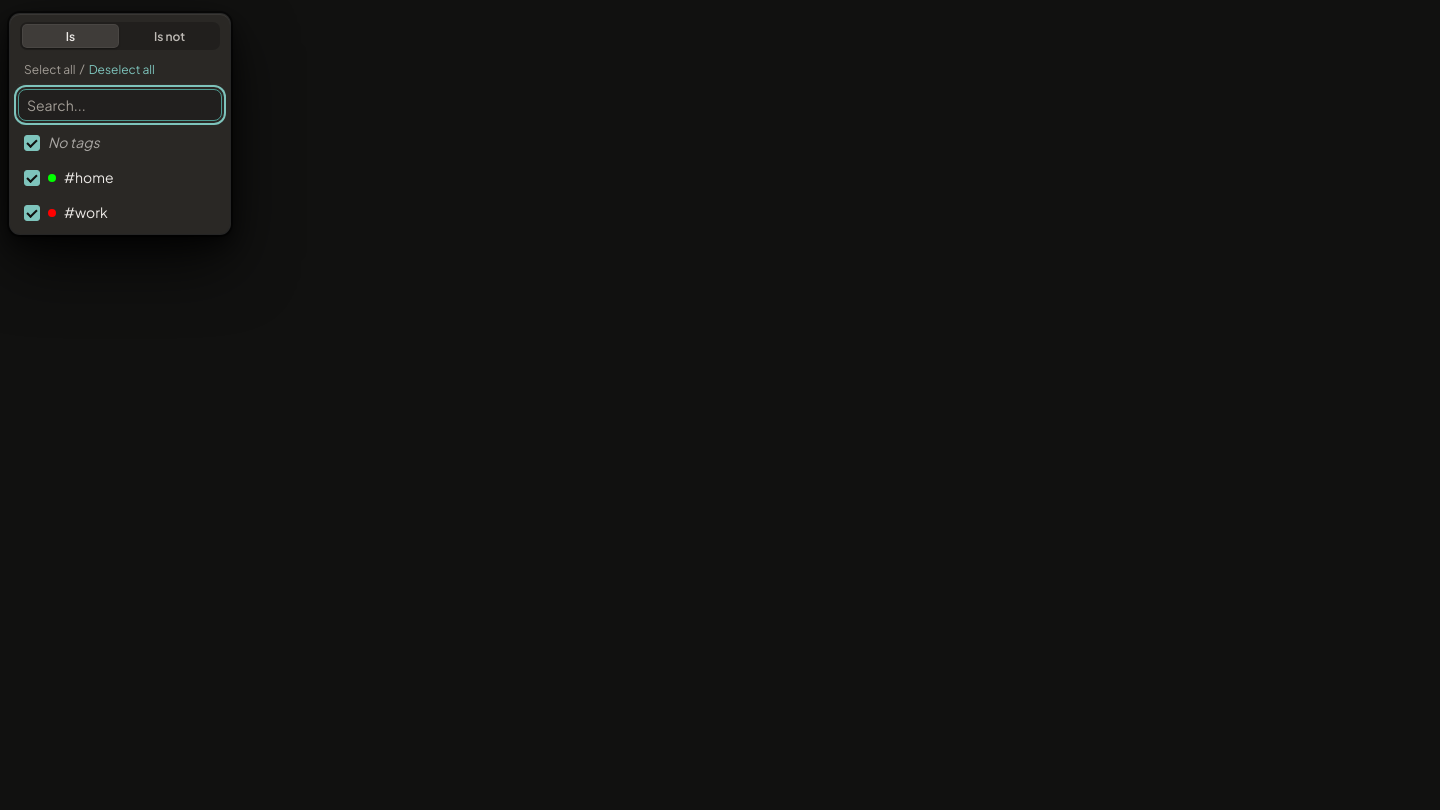
Test: the filter pickers’ clear × › a list’s Tags picker: the same ×, the picker stays open
Type "wo" into the field with placeholder "Search...". click: [120, 105]
box: [18, 89, 222, 121]
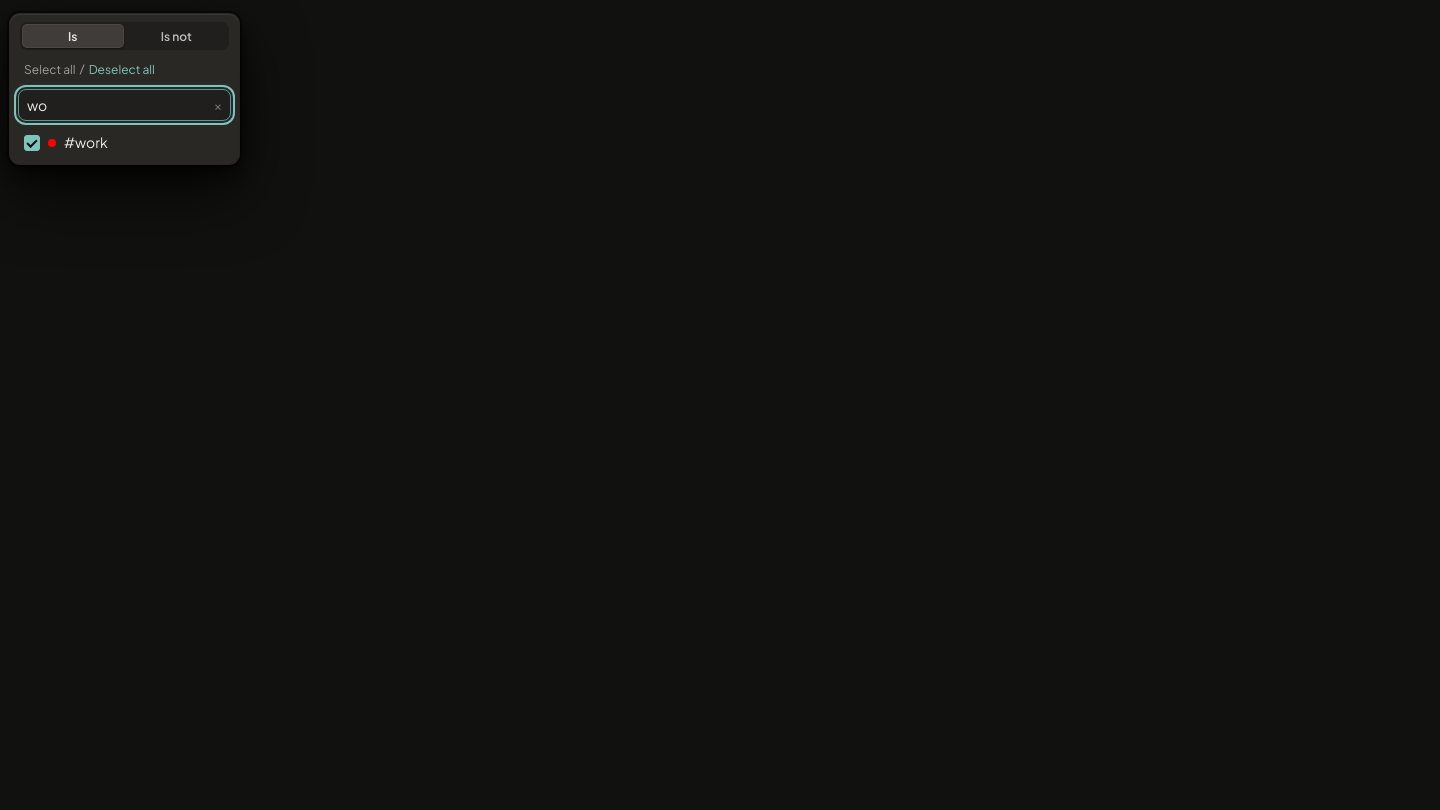
Expected: the option "home" is gone
Click the button named "Clear search". click: [218, 105]
box: [210, 97, 226, 113]
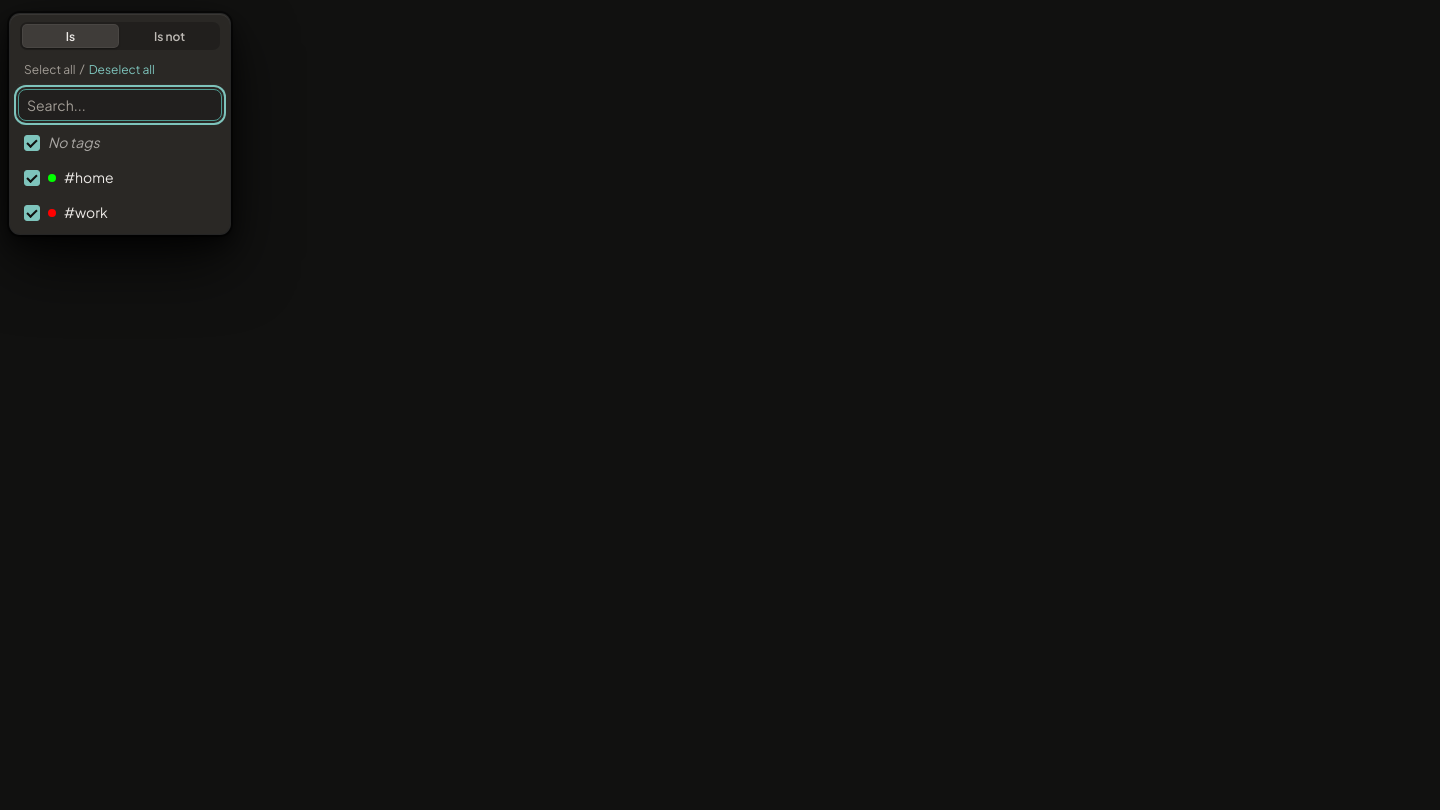
Expected: the dialog with test id "list-filter-picker" is shown, [10, 14, 230, 234]
Expected: the field with placeholder "Search..." is empty, [18, 89, 222, 121]
Expected: the option "#home" is shown, [24, 168, 114, 186]
